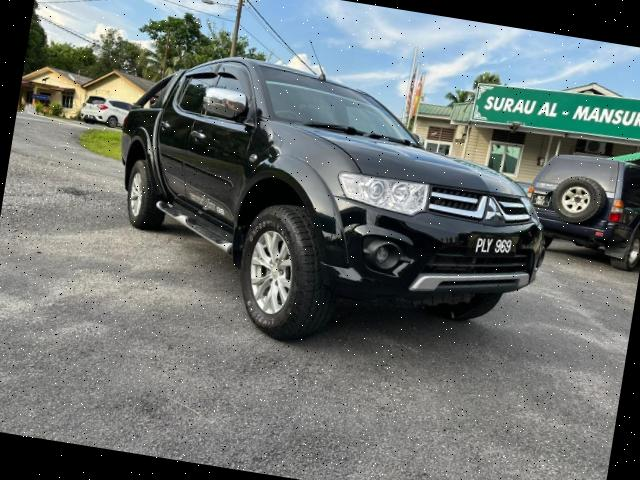License_Plate: (464, 229, 522, 264)
